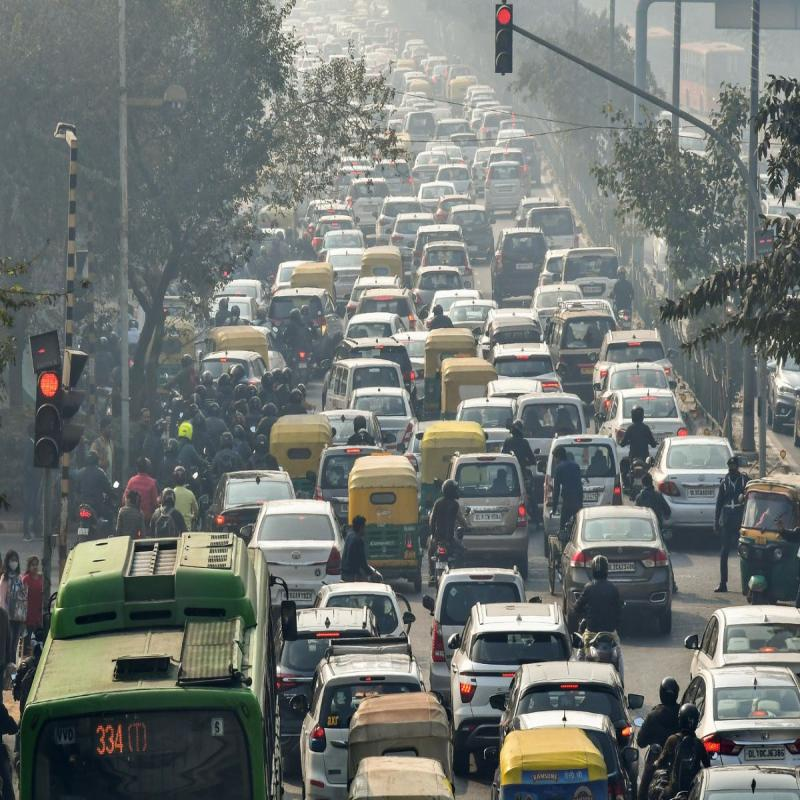auto: (337, 447, 429, 562)
car: (434, 601, 568, 712), (569, 505, 687, 615), (438, 440, 532, 567), (656, 427, 760, 525), (589, 316, 678, 404)
